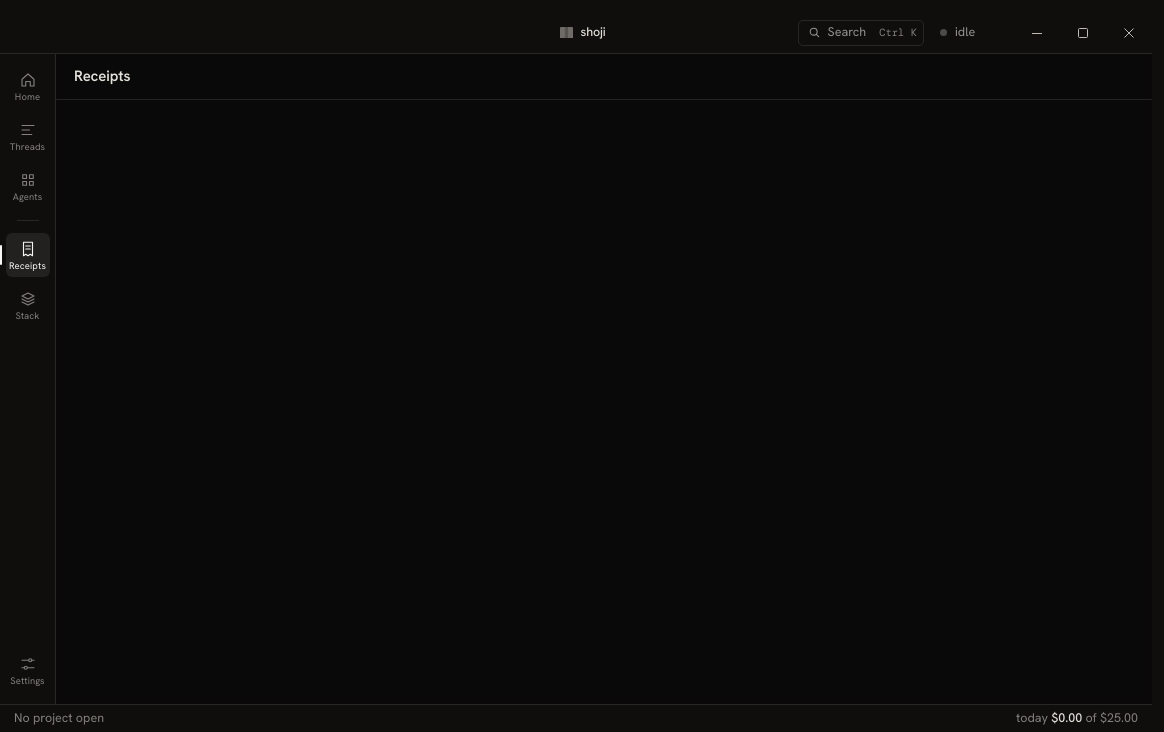
Test case: the Receipts view › steps between months that have threads
Click the button "Receipts" at {"x": 28, "y": 255}, box [6,233,50,277]
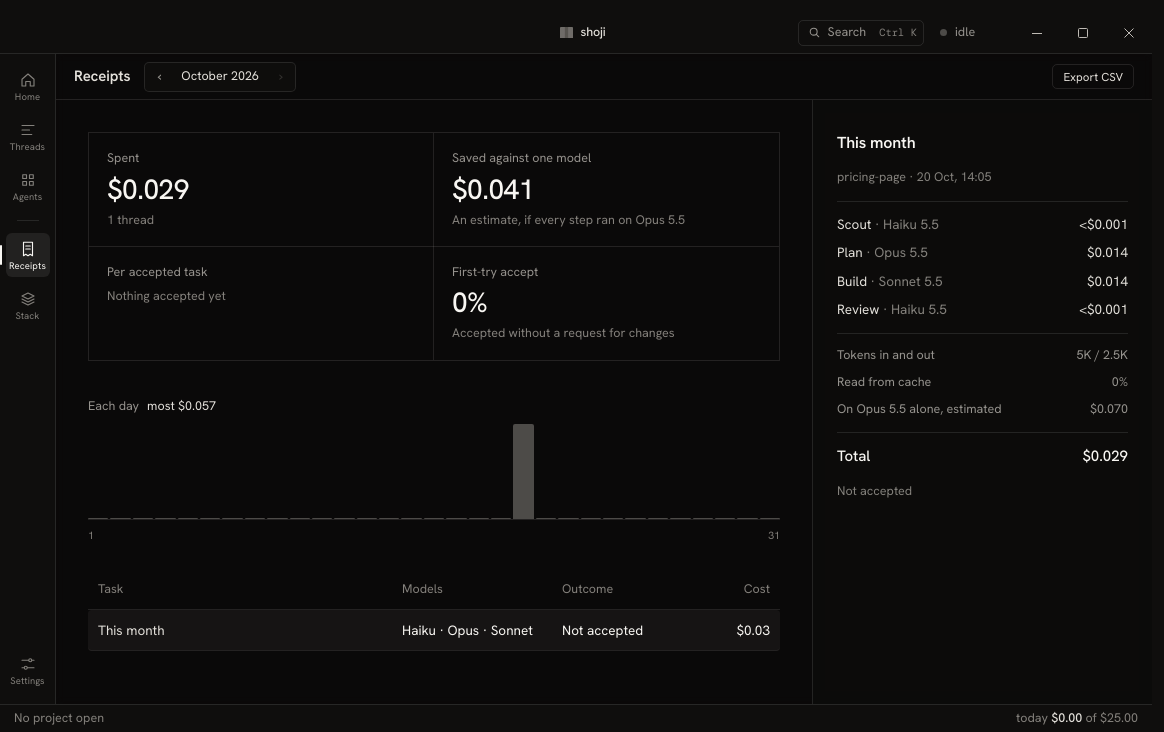
Expected: the button named "Later month" is disabled, [269,64,293,88]
Click the button named "Earlier month" at {"x": 159, "y": 76}, box [147,64,171,88]
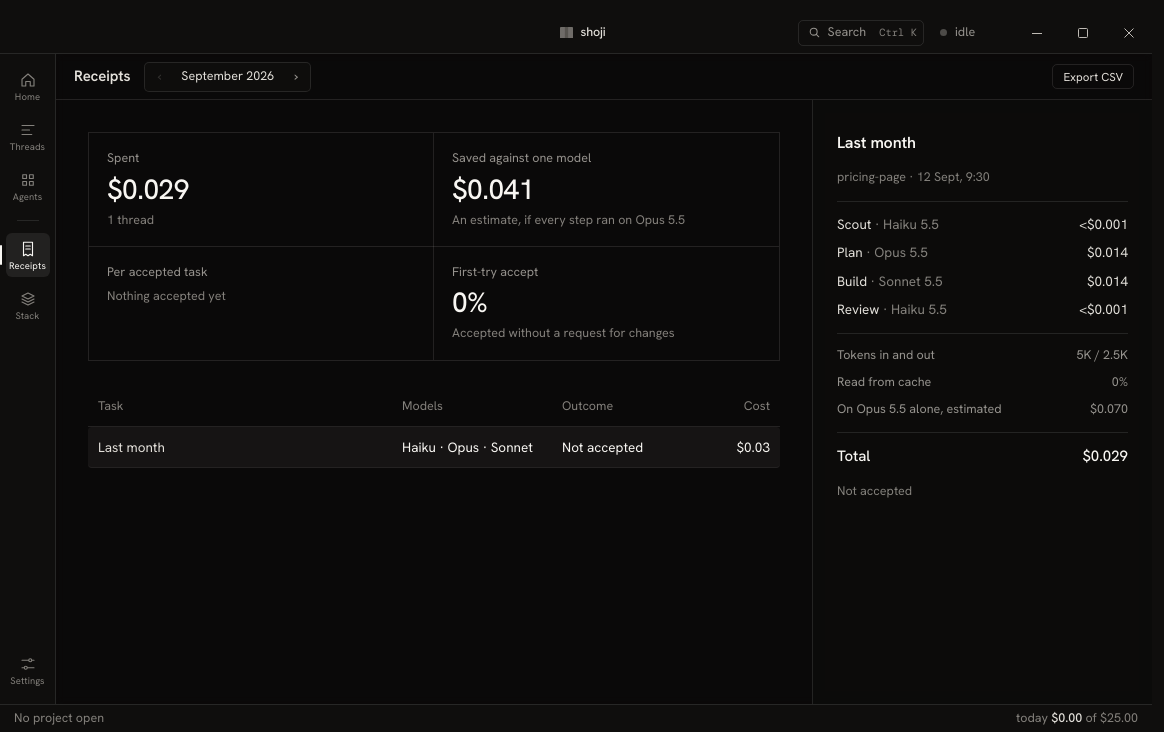
Now the text "September 2026" is shown, box [173,67,282,86]
Now the row "Last month Haiku · Opus · Sonnet Not accepted $0.03" is shown, box [88,427,780,468]
Now the row "This month" is gone
